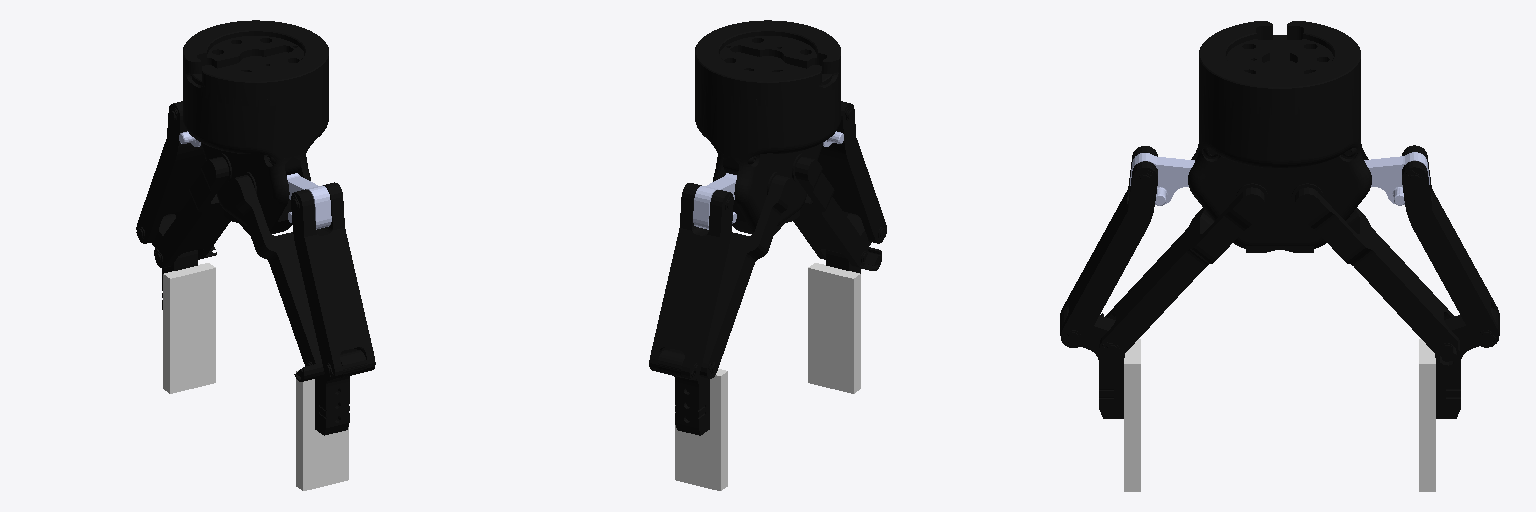
--- Facts derived from the render (not from the file) ---
The picture shows the robot from 3 angles, left to right: view 1: azimuth 30°, elevation 25°; view 2: azimuth 150°, elevation 25°; view 3: azimuth 270°, elevation 25°; orthographic projection.
Robot: panda — 22 links, 21 joints (13 revolute, 8 fixed); root link panda_link0; default pose: all joints at 0.
Links seen in each view (by area): view 1: robotiq_arg2f_base_link, robotiq_arg2f_coupling, left_outer_finger, right_inner_finger_pad, left_inner_knuckle, right_outer_finger, right_inner_knuckle, left_inner_finger_pad, left_inner_finger, left_outer_knuckle, right_inner_finger; view 2: robotiq_arg2f_base_link, robotiq_arg2f_coupling, right_outer_finger, left_inner_finger_pad, right_inner_knuckle, left_inner_knuckle, left_outer_finger, right_inner_finger_pad, right_inner_finger, right_outer_knuckle, left_inner_finger; view 3: robotiq_arg2f_base_link, robotiq_arg2f_coupling, right_inner_knuckle, left_inner_knuckle, left_outer_finger, right_outer_finger, right_inner_finger_pad, left_inner_finger_pad, left_inner_finger, right_inner_finger, right_outer_knuckle, left_outer_knuckle.
Link boxes in pixels (box(x1,y1,x2,y2)): robotiq_arg2f_base_link: box(183, 52, 328, 234); robotiq_arg2f_coupling: box(183, 20, 328, 106); left_outer_finger: box(291, 182, 375, 379); right_inner_finger_pad: box(163, 263, 215, 393); left_inner_knuckle: box(230, 175, 353, 381); right_outer_finger: box(136, 101, 205, 243); right_inner_knuckle: box(154, 157, 230, 267); left_inner_finger_pad: box(296, 370, 348, 490); left_inner_finger: box(315, 349, 366, 435); left_outer_knuckle: box(287, 173, 331, 229); right_inner_finger: box(151, 214, 197, 309); robotiq_arg2f_base_link: box(695, 52, 840, 234); robotiq_arg2f_coupling: box(695, 20, 840, 106); right_outer_finger: box(649, 183, 733, 379); left_inner_finger_pad: box(808, 263, 860, 393); right_inner_knuckle: box(699, 175, 794, 378); left_inner_knuckle: box(793, 157, 881, 270); left_outer_finger: box(818, 101, 886, 243); right_inner_finger_pad: box(675, 369, 727, 490); right_inner_finger: box(658, 349, 709, 435); right_outer_knuckle: box(693, 173, 736, 229); left_inner_finger: box(826, 213, 871, 273); robotiq_arg2f_base_link: box(1188, 35, 1371, 252); robotiq_arg2f_coupling: box(1199, 21, 1360, 114); right_inner_knuckle: box(1295, 187, 1460, 367); left_inner_knuckle: box(1099, 187, 1264, 360); left_outer_finger: box(1060, 146, 1157, 347); right_outer_finger: box(1402, 145, 1499, 347); right_inner_finger_pad: box(1419, 339, 1435, 491); left_inner_finger_pad: box(1124, 339, 1140, 491); left_inner_finger: box(1061, 308, 1124, 418); right_inner_finger: box(1435, 308, 1498, 418); right_outer_knuckle: box(1364, 152, 1429, 205); left_outer_knuckle: box(1130, 153, 1194, 205).
Bounding box of the posed robot: 0.075 × 0.2024 × 0.2165 m (x, y, z).
10 mesh visuals loaded from 14 distinct referenced files (6 OBJ); not drawn: 8 (reference not matched to a file when rendering).

URDF robot description (panda):
<?xml version="1.0" ?>
<!-- =================================================================================== -->
<!-- |    This document was autogenerated by xacro from panda_arm_hand.urdf.xacro      | -->
<!-- |    EDITING THIS FILE BY HAND IS NOT RECOMMENDED                                 | -->
<!-- =================================================================================== -->
<robot name="panda" xmlns:xacro="http://www.ros.org/wiki/xacro">
  <link name="panda_link0">
    <inertial>
      <origin rpy="0 0 0" xyz="0 0 0.05"/>
       <mass value="2.9"/>
       <inertia ixx="0.1" ixy="0" ixz="0" iyy="0.1" iyz="0" izz="0.1"/>
    </inertial>
    <visual>
      <geometry>
        <mesh filename="meshes/panda/meshes/collision/link0.obj"/>
      </geometry>
      <material name="panda_white">
        <color rgba="1. 1. 1. 1."/>
      </material>
    </visual>
    <collision>
      <geometry>
        <mesh filename="meshes/panda/meshes/collision/link0.obj"/>
      </geometry>
      <material name="panda_white"/>
    </collision>
  </link>
  <link name="panda_link1">
  	<inertial>
      <origin rpy="0 0 0" xyz="0 -0.04 -0.05"/>
       <mass value="2.7"/>
       <inertia ixx="0.1" ixy="0" ixz="0" iyy="0.1" iyz="0" izz="0.1"/>
    </inertial>
    <visual>
      <geometry>
        <mesh filename="meshes/panda/meshes/visual/link1.obj"/>
      </geometry>
      <material name="panda_white"/>
    </visual>
    <collision>
      <geometry>
        <mesh filename="meshes/panda/meshes/collision/link1.obj"/>
      </geometry>
      <material name="panda_white"/>
    </collision>
  </link>
  <joint name="panda_joint1" type="revolute">
    <safety_controller k_position="100.0" k_velocity="40.0" soft_lower_limit="-2.8973" soft_upper_limit="2.8973"/>
    <origin rpy="0 0 0" xyz="0 0 0.333"/>
    <parent link="panda_link0"/>
    <child link="panda_link1"/>
    <axis xyz="0 0 1"/>
    <limit effort="87" lower="-2.9671" upper="2.9671" velocity="2.1750"/>
  </joint>
  <link name="panda_link2">
  	<inertial>
      <origin rpy="0 0 0" xyz="0 -0.04 0.06"/>
       <mass value="2.73"/>
       <inertia ixx="0.1" ixy="0" ixz="0" iyy="0.1" iyz="0" izz="0.1"/>
    </inertial>
    <visual>
      <geometry>
        <mesh filename="meshes/panda/meshes/visual/link2.obj"/>
      </geometry>
      <material name="panda_white"/>
    </visual>
    <collision>
      <geometry>
        <mesh filename="meshes/panda/meshes/collision/link2.obj"/>
      </geometry>
      <material name="panda_white"/>
    </collision>
  </link>
  <joint name="panda_joint2" type="revolute">
    <safety_controller k_position="100.0" k_velocity="40.0" soft_lower_limit="-1.7628" soft_upper_limit="1.7628"/>
    <origin rpy="-1.57079632679 0 0" xyz="0 0 0"/>
    <parent link="panda_link1"/>
    <child link="panda_link2"/>
    <axis xyz="0 0 1"/>
    <limit effort="87" lower="-1.8326" upper="1.8326" velocity="2.1750"/>
  </joint>
  <link name="panda_link3">
	  <inertial>
      <origin rpy="0 0 0" xyz="0.01 0.01 -0.05"/>
       <mass value="2.04"/>
       <inertia ixx="0.1" ixy="0" ixz="0" iyy="0.1" iyz="0" izz="0.1"/>
    </inertial>
    <visual>
      <geometry>
        <mesh filename="meshes/panda/meshes/visual/link3.obj"/>
      </geometry>
      <material name="panda_red">
    		<color rgba="1. 1. 1. 1."/>
  		</material>
    </visual>
    <collision>
      <geometry>
        <mesh filename="meshes/panda/meshes/collision/link3.obj"/>
      </geometry>
    </collision>
  </link>
  <joint name="panda_joint3" type="revolute">
    <safety_controller k_position="100.0" k_velocity="40.0" soft_lower_limit="-2.8973" soft_upper_limit="2.8973"/>
    <origin rpy="1.57079632679 0 0" xyz="0 -0.316 0"/>
    <parent link="panda_link2"/>
    <child link="panda_link3"/>
    <axis xyz="0 0 1"/>
    <limit effort="87" lower="-2.9671" upper="2.9671" velocity="2.1750"/>
  </joint>
  <link name="panda_link4">
  	<inertial>
      <origin rpy="0 0 0" xyz="-0.03 0.03 0.02"/>
       <mass value="2.08"/>
       <inertia ixx="0.1" ixy="0" ixz="0" iyy="0.1" iyz="0" izz="0.1"/>
    </inertial>
    <visual>
      <geometry>
        <mesh filename="meshes/panda/meshes/visual/link4.obj"/>
      </geometry>
      <material name="panda_white"/>
    </visual>
    <collision>
      <geometry>
        <mesh filename="meshes/panda/meshes/collision/link4.obj"/>
      </geometry>
      <material name="panda_white"/>
    </collision>
  </link>
  <joint name="panda_joint4" type="revolute">
    <safety_controller k_position="100.0" k_velocity="40.0" soft_lower_limit="-3.0718" soft_upper_limit="-0.0698"/>
    <origin rpy="1.57079632679 0 0" xyz="0.0825 0 0"/>
    <parent link="panda_link3"/>
    <child link="panda_link4"/>
    <axis xyz="0 0 1"/>
    <limit effort="87" lower="-3.1416" upper="0.0" velocity="2.1750"/>
  </joint>
  <link name="panda_link5">
  	<inertial>
      <origin rpy="0 0 0" xyz="0 0.04 -0.12"/>
       <mass value="3"/>
       <inertia ixx="0.1" ixy="0" ixz="0" iyy="0.1" iyz="0" izz="0.1"/>
    </inertial>
    <visual>
      <geometry>
        <mesh filename="meshes/panda/meshes/visual/link5.obj"/>
      </geometry>
      <material name="panda_white"/>
    </visual>
    <collision>
      <geometry>
        <mesh filename="meshes/panda/meshes/collision/link5.obj"/>
      </geometry>
      <material name="panda_white"/>
    </collision>
  </link>
  <joint name="panda_joint5" type="revolute">
    <safety_controller k_position="100.0" k_velocity="40.0" soft_lower_limit="-2.8973" soft_upper_limit="2.8973"/>
    <origin rpy="-1.57079632679 0 0" xyz="-0.0825 0.384 0"/>
    <parent link="panda_link4"/>
    <child link="panda_link5"/>
    <axis xyz="0 0 1"/>
    <limit effort="12" lower="-2.9671" upper="2.9671" velocity="2.6100"/>
  </joint>
  <link name="panda_link6">
  	<inertial>
      <origin rpy="0 0 0" xyz="0.04 0 0"/>
       <mass value="1.3"/>
       <inertia ixx="0.1" ixy="0" ixz="0" iyy="0.1" iyz="0" izz="0.1"/>
    </inertial>
    <visual>
      <geometry>
        <mesh filename="meshes/panda/meshes/visual/link6.obj"/>
      </geometry>
      <material name="panda_white"/>
    </visual>
    <collision>
      <geometry>
        <mesh filename="meshes/panda/meshes/collision/link6.obj"/>
      </geometry>
      <material name="panda_white"/>
    </collision>
  </link>
  <joint name="panda_joint6" type="revolute">
    <safety_controller k_position="100.0" k_velocity="40.0" soft_lower_limit="-0.0175" soft_upper_limit="3.7525"/>
    <origin rpy="1.57079632679 0 0" xyz="0 0 0"/>
    <parent link="panda_link5"/>
    <child link="panda_link6"/>
    <axis xyz="0 0 1"/>
    <limit effort="12" lower="-0.0873" upper="3.8223" velocity="2.6100"/>
  </joint>
  <link name="panda_link7">
  	<inertial>
      <origin rpy="0 0 0" xyz="0 0 0.08"/>
       <mass value=".2"/>
       <inertia ixx="0.1" ixy="0" ixz="0" iyy="0.1" iyz="0" izz="0.1"/>
    </inertial>
    <visual>
      <geometry>
        <mesh filename="meshes/panda/meshes/collision/link7.obj"/>
      </geometry>
      <material name="panda_white"/>
    </visual>
    <collision>
      <geometry>
        <mesh filename="meshes/panda/meshes/collision/link7.obj"/>
      </geometry>
      <material name="panda_white"/>
    </collision>
  </link>
  <joint name="panda_joint7" type="revolute">
    <safety_controller k_position="100.0" k_velocity="40.0" soft_lower_limit="-2.8973" soft_upper_limit="2.8973"/>
    <origin rpy="1.57079632679 0 0" xyz="0.088 0 0"/>
    <parent link="panda_link6"/>
    <child link="panda_link7"/>
    <axis xyz="0 0 1"/>
    <limit effort="12" lower="-2.9671" upper="2.9671" velocity="2.6100"/>
  </joint>
  <link name="panda_link8">
  	 <inertial>
      <origin rpy="0 0 0" xyz="0 0 0"/>
       <mass value="0.0"/>
       <inertia ixx="0.1" ixy="0" ixz="0" iyy="0.1" iyz="0" izz="0.1"/>
    </inertial>
  </link>
  <joint name="panda_joint8" type="fixed">
    <origin rpy="0 0 0" xyz="0 0 0.107"/>
    <parent link="panda_link7"/>
    <child link="panda_link8"/>
    <axis xyz="0 0 0"/>
  </joint>
  <joint name="panda_hand_joint" type="fixed">
    <parent link="panda_link8"/>
    <child link="robotiq_arg2f_coupling"/>
    <origin rpy="0 0 3.1415" xyz="0 0 0"/>
  </joint>
    <link name="robotiq_arg2f_coupling">
        <inertial>
            <origin rpy="0 0 0" xyz="0 0 0"/>
            <mass value="0.05"/>
            <inertia ixx="2E-06" ixy="-4E-10" ixz="-2E-10" iyy="2E-06" iyz="-3E-08" izz="2E-06"/>
        </inertial>
        <visual>
            <origin rpy="0 0 0" xyz="0 0 0"/>
            <geometry>
                <mesh filename="meshes/robotiq_2f140/visual/robotiq_arg2f_coupling.obj" scale="0.001 0.001 0.001"/>
            </geometry>
            <material name="">
                <color rgba="0.1 0.1 0.1 1"/>
            </material>
        </visual>
        <collision>
            <origin rpy="0 0 0" xyz="0 0 0"/>
            <geometry>
                <mesh filename="meshes/robotiq_2f140/collision/robotiq_arg2f_coupling.obj" scale="0.001 0.001 0.001"/>
            </geometry>
        </collision>
    </link>
    <link name="robotiq_arg2f_base_link">
        <inertial>
            <origin rpy="0 0 0" xyz="8.625E-08 -4.6583E-06 0.03145"/>
            <mass value="0.22652"/>
            <inertia ixx="0.00020005" ixy="-4.2442E-10" ixz="-2.9069E-10" iyy="0.00017832" iyz="-3.4402E-08"
                     izz="0.00013478"/>
        </inertial>
        <visual>
            <origin rpy="0 0 0" xyz="0 0 0"/>
            <geometry>
                <mesh filename="meshes/robotiq_2f140/visual/robotiq_arg2f_base_link.obj"/>
            </geometry>
            <material name="">
                <color rgba="0.1 0.1 0.1 1"/>
            </material>
        </visual>
        <collision>
            <origin rpy="0 0 0" xyz="0 0 0"/>
            <geometry>
                <mesh filename="meshes/robotiq_2f140/collision/robotiq_arg2f_base_link.obj"/>
            </geometry>
        </collision>
    </link>
    <link name="left_outer_knuckle">
        <inertial>
            <origin rpy="0 0 0" xyz="-0.000200000000003065 0.0199435877845359 0.0292245259211331"/>
            <mass value="0.00853198276973456"/>
            <inertia ixx="2.89328108496468E-06" ixy="-1.57935047237397E-19" ixz="-1.93980378593255E-19"
                     iyy="1.86719750325683E-06" iyz="-1.21858577871576E-06" izz="1.21905238907251E-06"/>
        </inertial>
        <visual>
            <origin rpy="0 0 0" xyz="0 0 0"/>
            <geometry>
                <mesh filename="meshes/robotiq_2f140/visual/robotiq_arg2f_140_outer_knuckle.obj"/>
            </geometry>
            <material name="">
                <color rgba="0.792156862745098 0.819607843137255 0.933333333333333 1"/>
            </material>
        </visual>
        <collision>
            <origin rpy="0 0 0" xyz="0 0 0"/>
            <geometry>
                <mesh filename="meshes/robotiq_2f140/collision/robotiq_arg2f_140_outer_knuckle.obj"/>
            </geometry>
        </collision>
    </link>
    <link name="left_outer_finger">
        <inertial>
            <origin rpy="0 0 0" xyz="0.00030115855001899 0.0373907951953854 -0.0208027427000385"/>
            <mass value="0.022614240507152"/>
            <inertia ixx="1.52518312458174E-05" ixy="9.76583423954399E-10" ixz="-5.43838577022588E-10"
                     iyy="6.17694243867776E-06" iyz="6.78636130740228E-06" izz="1.16494917907219E-05"/>
        </inertial>
        <visual>
            <origin rpy="0 0 0" xyz="0 0 0"/>
            <geometry>
                <mesh filename="meshes/robotiq_2f140/visual/robotiq_arg2f_140_outer_finger.obj"/>
            </geometry>
            <material name="">
                <color rgba="0.1 0.1 0.1 1"/>
            </material>
        </visual>
        <collision>
            <origin rpy="0 0 0" xyz="0 0 0"/>
            <geometry>
                <mesh filename="meshes/robotiq_2f140/collision/robotiq_arg2f_140_outer_finger.obj"/>
            </geometry>
        </collision>
    </link>
    <link name="left_inner_finger">
        <inertial>
            <origin rpy="0 0 0" xyz="0.000299999999999317 0.0160078233491243 -0.0136945669206257"/>
            <mass value="0.0104003125914103"/>
            <inertia ixx="2.71909453810972E-06" ixy="1.35402465472579E-21" ixz="-7.1817349065269E-22"
                     iyy="7.69100314106116E-07" iyz="6.74715432769696E-07" izz="2.30315190420171E-06"/>
        </inertial>
        <visual>
            <origin rpy="0 0 0" xyz="0 0 0"/>
            <geometry>
                <mesh filename="meshes/robotiq_2f140/visual/robotiq_arg2f_140_inner_finger.obj"/>
            </geometry>
            <material name="">
                <color rgba="0.1 0.1 0.1 1"/>
            </material>
        </visual>
        <collision>
            <origin rpy="0 0 0" xyz="0 0 0"/>
            <geometry>
                <mesh filename="meshes/robotiq_2f140/collision/robotiq_arg2f_140_inner_finger.obj"/>
            </geometry>
        </collision>
    </link>
    <link name="left_inner_finger_pad">
        <visual>
            <origin rpy="0 0 0" xyz="0 0 0"/>
            <geometry>
                <box size="0.027 0.065 0.0075"/>
            </geometry>
            <material name="">
                <color rgba="0.9 0.9 0.9 1"/>
            </material>
        </visual>
        <collision>
            <origin rpy="0 0 0" xyz="0 0 0"/>
            <geometry>
                <box size="0.03 0.07 0.0075"/>
            </geometry>
            <material name="">
                <color rgba="0.9 0.0 0.0 1"/>
            </material>
        </collision>
    </link>
    <link name="left_inner_knuckle">
        <inertial>
            <origin rpy="0 0 0" xyz="0.000123011831763771 0.0507850843201817 0.00103968640075166"/>
            <mass value="0.0271177346495152"/>
            <inertia ixx="2.61910379223783E-05" ixy="-2.43616858946494E-07" ixz="-6.37789906117123E-09"
                     iyy="2.8270243746167E-06" iyz="-5.37200748039765E-07" izz="2.83695868220296E-05"/>
        </inertial>
        <visual>
            <origin rpy="0 0 0" xyz="0 0 0"/>
            <geometry>
                <mesh filename="meshes/robotiq_2f140/visual/robotiq_arg2f_140_inner_knuckle.obj"/>
            </geometry>
            <material name="">
                <color rgba="0.1 0.1 0.1 1"/>
            </material>
        </visual>
        <collision>
            <origin rpy="0 0 0" xyz="0 0 0"/>
            <geometry>
                <mesh filename="meshes/robotiq_2f140/collision/robotiq_arg2f_140_inner_knuckle.obj"/>
            </geometry>
        </collision>
    </link>
    <link name="right_outer_knuckle">
        <inertial>
            <origin rpy="0 0 0" xyz="-0.000200000000003065 0.0199435877845359 0.0292245259211331"/>
            <mass value="0.00853198276973456"/>
            <inertia ixx="2.89328108496468E-06" ixy="-1.57935047237397E-19" ixz="-1.93980378593255E-19"
                     iyy="1.86719750325683E-06" iyz="-1.21858577871576E-06" izz="1.21905238907251E-06"/>
        </inertial>
        <visual>
            <origin rpy="0 0 0" xyz="0 0 0"/>
            <geometry>
                <mesh filename="meshes/robotiq_2f140/visual/robotiq_arg2f_140_outer_knuckle.obj"/>
            </geometry>
            <material name="">
                <color rgba="0.792156862745098 0.819607843137255 0.933333333333333 1"/>
            </material>
        </visual>
        <collision>
            <origin rpy="0 0 0" xyz="0 0 0"/>
            <geometry>
                <mesh filename="meshes/robotiq_2f140/collision/robotiq_arg2f_140_outer_knuckle.obj"/>
            </geometry>
        </collision>
    </link>
    <link name="right_outer_finger">
        <inertial>
            <origin rpy="0 0 0" xyz="0.00030115855001899 0.0373907951953854 -0.0208027427000385"/>
            <mass value="0.022614240507152"/>
            <inertia ixx="1.52518312458174E-05" ixy="9.76583423954399E-10" ixz="-5.43838577022588E-10"
                     iyy="6.17694243867776E-06" iyz="6.78636130740228E-06" izz="1.16494917907219E-05"/>
        </inertial>
        <visual>
            <origin rpy="0 0 0" xyz="0 0 0"/>
            <geometry>
                <mesh filename="meshes/robotiq_2f140/visual/robotiq_arg2f_140_outer_finger.obj"/>
            </geometry>
            <material name="">
                <color rgba="0.1 0.1 0.1 1"/>
            </material>
        </visual>
        <collision>
            <origin rpy="0 0 0" xyz="0 0 0"/>
            <geometry>
                <mesh filename="meshes/robotiq_2f140/collision/robotiq_arg2f_140_outer_finger.obj"/>
            </geometry>
        </collision>
    </link>
    <link name="right_inner_finger">
        <inertial>
            <origin rpy="0 0 0" xyz="0.000299999999999317 0.0160078233491243 -0.0136945669206257"/>
            <mass value="0.0104003125914103"/>
            <inertia ixx="2.71909453810972E-06" ixy="1.35402465472579E-21" ixz="-7.1817349065269E-22"
                     iyy="7.69100314106116E-07" iyz="6.74715432769696E-07" izz="2.30315190420171E-06"/>
        </inertial>
        <visual>
            <origin rpy="0 0 0" xyz="0 0 0"/>
            <geometry>
                <mesh filename="meshes/robotiq_2f140/visual/robotiq_arg2f_140_inner_finger.obj"/>
            </geometry>
            <material name="">
                <color rgba="0.1 0.1 0.1 1"/>
            </material>
        </visual>
        <collision>
            <origin rpy="0 0 0" xyz="0 0 0"/>
            <geometry>
                <mesh filename="meshes/robotiq_2f140/collision/robotiq_arg2f_140_inner_finger.obj"/>
            </geometry>
        </collision>
    </link>
    <link name="right_inner_finger_pad">
        <visual>
            <origin rpy="0 0 0" xyz="0 0 0"/>
            <geometry>
                <box size="0.027 0.065 0.0075"/>
            </geometry>
            <material name="">
                <color rgba="0.9 0.9 0.9 1"/>
            </material>
        </visual>
        <collision>
            <origin rpy="0 0 0" xyz="0 0 0"/>
            <geometry>
                <box size="0.03 0.07 0.0075"/>
            </geometry>
            <material name="">
                <color rgba="0.9 0.0 0.0 1"/>
            </material>
        </collision>
    </link>
    <link name="right_inner_knuckle">
        <inertial>
            <origin rpy="0 0 0" xyz="0.000123011831763771 0.0507850843201817 0.00103968640075166"/>
            <mass value="0.0271177346495152"/>
            <inertia ixx="2.61910379223783E-05" ixy="-2.43616858946494E-07" ixz="-6.37789906117123E-09"
                     iyy="2.8270243746167E-06" iyz="-5.37200748039765E-07" izz="2.83695868220296E-05"/>
        </inertial>
        <visual>
            <origin rpy="0 0 0" xyz="0 0 0"/>
            <geometry>
                <mesh filename="meshes/robotiq_2f140/visual/robotiq_arg2f_140_inner_knuckle.obj"/>
            </geometry>
            <material name="">
                <color rgba="0.1 0.1 0.1 1"/>
            </material>
        </visual>
        <collision>
            <origin rpy="0 0 0" xyz="0 0 0"/>
            <geometry>
                <mesh filename="meshes/robotiq_2f140/collision/robotiq_arg2f_140_inner_knuckle.obj"/>
            </geometry>
        </collision>
    </link>
    <joint name="finger_joint" type="revolute">
        <origin rpy="2.29579632679 0 0" xyz="0 -0.030601 0.054905"/>
        <parent link="robotiq_arg2f_base_link"/>
        <child link="left_outer_knuckle"/>
        <axis xyz="-1 0 0"/>
        <limit effort="1000" lower="0" upper="0.7" velocity="2.0"/>
    </joint>
    <joint name="left_outer_finger_joint" type="fixed">
        <origin rpy="0 0 0" xyz="0 0.01821998610742 0.0260018192872234"/>
        <parent link="left_outer_knuckle"/>
        <child link="left_outer_finger"/>
        <axis xyz="1 0 0"/>
    </joint>
    <joint name="left_inner_knuckle_joint" type="revolute">
        <origin rpy="2.29579632679 0 0.0" xyz="0 -0.0127 0.06142"/>
        <parent link="robotiq_arg2f_base_link"/>
        <child link="left_inner_knuckle"/>
        <axis xyz="1 0 0"/>
        <limit effort="1000" lower="-0.8757" upper="0.8757" velocity="2.0"/>
        <mimic joint="finger_joint" multiplier="-1" offset="0"/>
    </joint>
    <joint name="left_inner_finger_joint" type="revolute">
        <origin rpy="-0.725 0 0" xyz="0 0.0817554015893473 -0.0282203446692936"/>
        <parent link="left_outer_finger"/>
        <child link="left_inner_finger"/>
        <axis xyz="1 0 0"/>
        <limit effort="1000" lower="-0.8757" upper="0.8757" velocity="2.0"/>
        <mimic joint="finger_joint" multiplier="1" offset="0"/>
    </joint>
    <joint name="left_inner_finger_pad_joint" type="fixed">
        <origin rpy="0 0 0" xyz="0 0.0457554015893473 -0.0272203446692936"/>
        <parent link="left_inner_finger"/>
        <child link="left_inner_finger_pad"/>
        <axis xyz="0 0 1"/>
    </joint>
    <joint name="right_outer_knuckle_joint" type="revolute">
        <origin rpy="2.29579632679 0 3.14159265359" xyz="0 0.030601 0.054905"/>
        <parent link="robotiq_arg2f_base_link"/>
        <child link="right_outer_knuckle"/>
        <axis xyz="1 0 0"/>
        <limit effort="1000" lower="-0.725" upper="0.725" velocity="2.0"/>
        <mimic joint="finger_joint" multiplier="-1" offset="0"/>
    </joint>
    <joint name="right_outer_finger_joint" type="fixed">
        <origin rpy="0 0 0" xyz="0 0.01821998610742 0.0260018192872234"/>
        <parent link="right_outer_knuckle"/>
        <child link="right_outer_finger"/>
        <axis xyz="1 0 0"/>
    </joint>
    <joint name="right_inner_knuckle_joint" type="revolute">
        <origin rpy="2.29579632679 0 -3.14159265359" xyz="0 0.0127 0.06142"/>
        <parent link="robotiq_arg2f_base_link"/>
        <child link="right_inner_knuckle"/>
        <axis xyz="1 0 0"/>
        <limit effort="1000" lower="-0.8757" upper="0.8757" velocity="2.0"/>
        <mimic joint="finger_joint" multiplier="-1" offset="0"/>
    </joint>
    <joint name="right_inner_finger_joint" type="revolute">
        <origin rpy="-0.725 0 0" xyz="0 0.0817554015893473 -0.0282203446692936"/>
        <parent link="right_outer_finger"/>
        <child link="right_inner_finger"/>
        <axis xyz="1 0 0"/>
        <limit effort="1000" lower="-0.8757" upper="0.8757" velocity="2.0"/>
        <mimic joint="finger_joint" multiplier="1" offset="0"/>
    </joint>
    <joint name="right_inner_finger_pad_joint" type="fixed">
        <origin rpy="0 0 0" xyz="0 0.0457554015893473 -0.0272203446692936"/>
        <parent link="right_inner_finger"/>
        <child link="right_inner_finger_pad"/>
        <axis xyz="0 0 1"/>
    </joint>
    <transmission name="finger_joint_trans">
        <type>transmission_interface/SimpleTransmission</type>
        <joint name="finger_joint">
            <hardwareInterface>hardware_interface/PositionJointInterface</hardwareInterface>
        </joint>
        <actuator name="finger_joint_motor">
            <mechanicalReduction>1</mechanicalReduction>
        </actuator>
    </transmission>
    <gazebo>
        <!-- loading plugin: mimic joints works in gazebo now-->
        <plugin filename="libroboticsgroup_gazebo_mimic_joint_plugin.so" name="mimic_robotiq_140_4">
            <joint>finger_joint</joint>
            <mimicJoint>right_outer_knuckle_joint</mimicJoint>
            <multiplier>-1.0</multiplier>
        </plugin>
        <plugin filename="libroboticsgroup_gazebo_mimic_joint_plugin.so" name="mimic_robotiq_140_2">
            <joint>finger_joint</joint>
            <mimicJoint>left_inner_finger_joint</mimicJoint>
            <multiplier>1.0</multiplier>
            <!--<offset>0.0</offset>-->
        </plugin>
        <plugin filename="libroboticsgroup_gazebo_mimic_joint_plugin.so" name="mimic_robotiq_140_1">
            <joint>finger_joint</joint>
            <mimicJoint>right_inner_finger_joint</mimicJoint>
            <multiplier>1.0</multiplier>
        </plugin>
        <plugin filename="libroboticsgroup_gazebo_mimic_joint_plugin.so" name="mimic_robotiq_140_3">
            <joint>finger_joint</joint>
            <mimicJoint>left_inner_knuckle_joint</mimicJoint>
            <multiplier>-1.0</multiplier>
        </plugin>
        <plugin filename="libroboticsgroup_gazebo_mimic_joint_plugin.so" name="mimic_robotiq_140_5">
            <joint>finger_joint</joint>
            <mimicJoint>right_inner_knuckle_joint</mimicJoint>
            <multiplier>-1.0</multiplier>
        </plugin>
    </gazebo>
    <joint name="base_coupling" type="fixed">
        <origin rpy="0 0 0" xyz="0 0 0"/>
        <parent link="robotiq_arg2f_coupling"/>
        <child link="robotiq_arg2f_base_link"/>
    </joint>
    <link name="panda_grasptarget">
 <inertial>
      <origin rpy="0 0 0" xyz="0 0 0"/>
       <mass value="0.0"/>
       <inertia ixx="0.00001" ixy="0" ixz="0" iyy="0.00001" iyz="0" izz="0.00001"/>
    </inertial>
   </link>
    <joint name="panda_grasptarget_hand" type="fixed">
        <parent link="panda_link8"/>
        <child link="panda_grasptarget"/>
        <!--  just an estimation, not an accurate value-->
        <origin rpy="0.0 0.0 0.0" xyz=" 0.00 0.0 0.23"/>
    </joint>
</robot>
